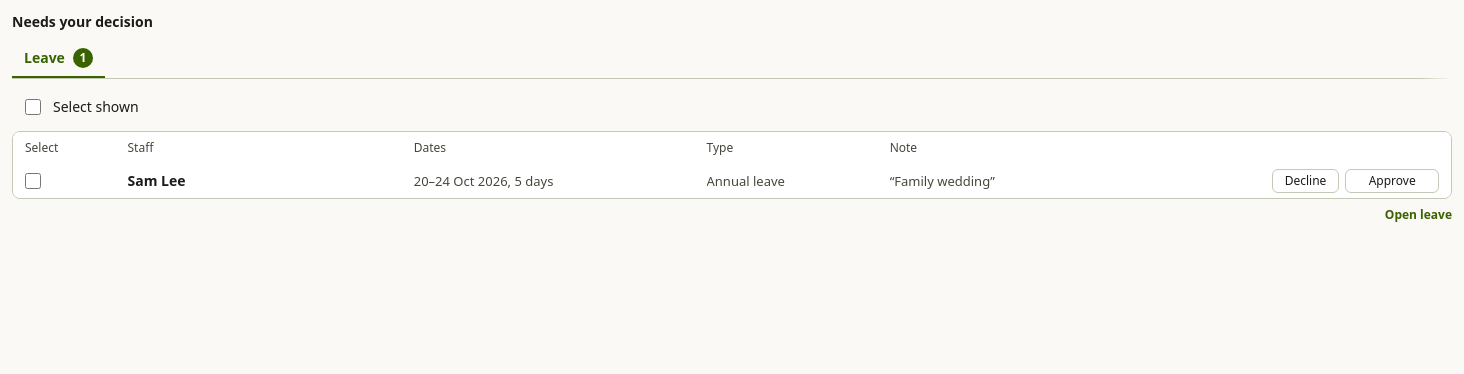
Test: Leave group — Approve › keeps the row and says the server's words when somebody else decided it first
The width and height of the screenshot is (1464, 374).
Click the button with aria-label "Approve leave: Sam Lee, 20–24 Oct 2026" at (1392, 181), box x1=1345 y1=169 x2=1439 y2=193
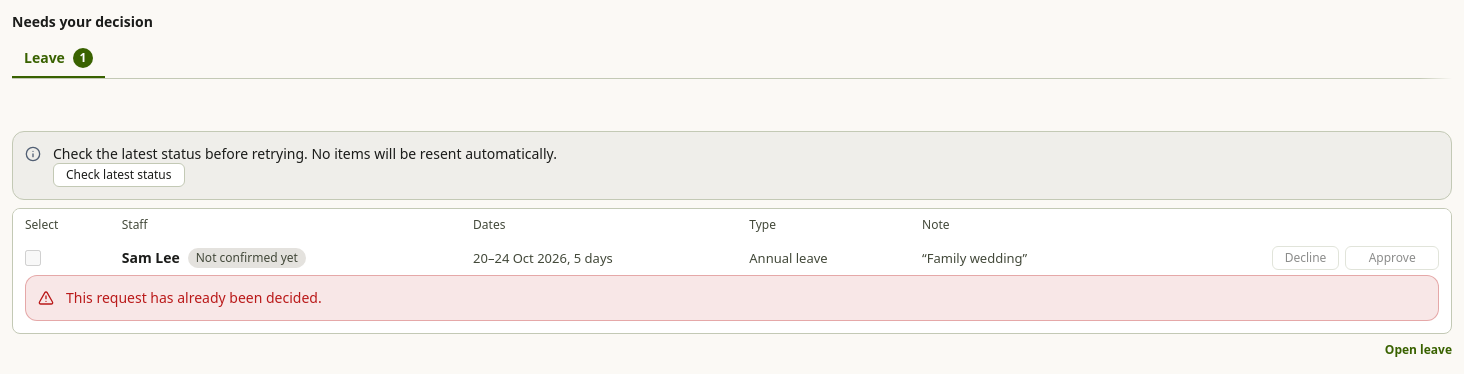
Expected: the text "Sam Lee" is shown, x1=122 y1=248 x2=180 y2=268
Now the message "This request has already been decided." is shown, box x1=25 y1=275 x2=1439 y2=321
